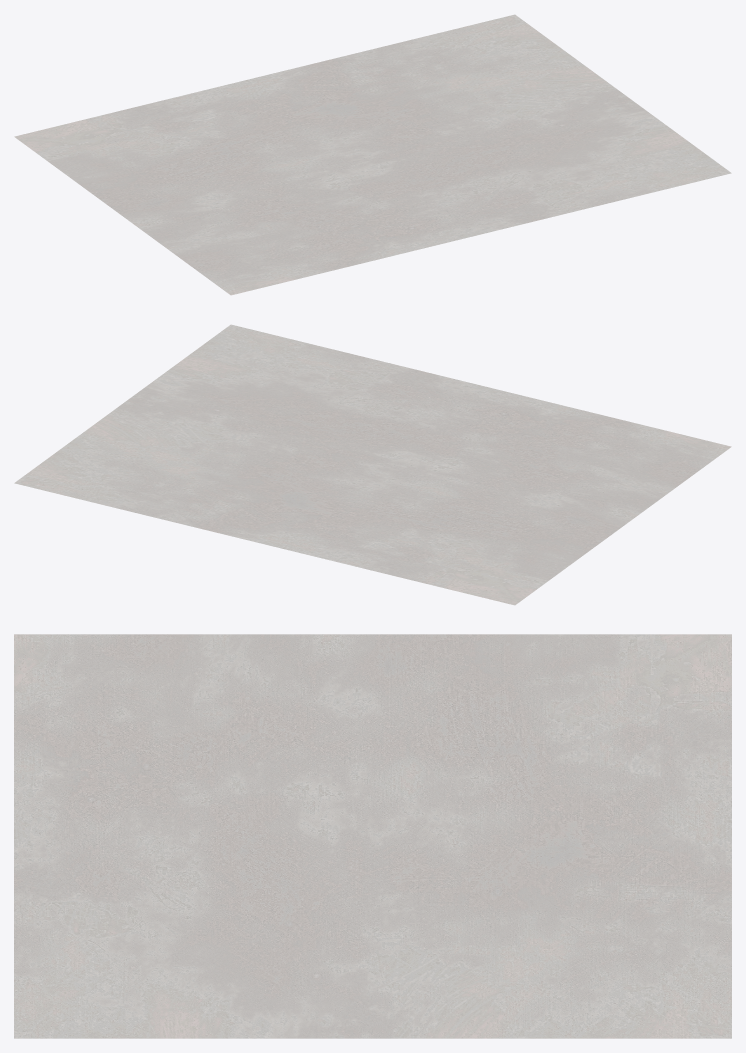
Rendered from ceiling.glb.
3 views of the same model, one above another, from view 1: azimuth 30°, elevation 25°; view 2: azimuth 150°, elevation 25°; view 3: azimuth 270°, elevation 25° (orthographic). The views are drawn at different scales.
Visible parts, largest first — view 1: Ceiling; view 2: Ceiling; view 3: Ceiling.
Boxes of the visible parts, bbox=[...] form: Ceiling: bbox=[14, 14, 731, 295]; Ceiling: bbox=[14, 324, 731, 605]; Ceiling: bbox=[14, 634, 731, 1038].
Bounding box in the file's own units: 7.89 × 1.19e-06 × 5.92.
1 material, 1 textured.
